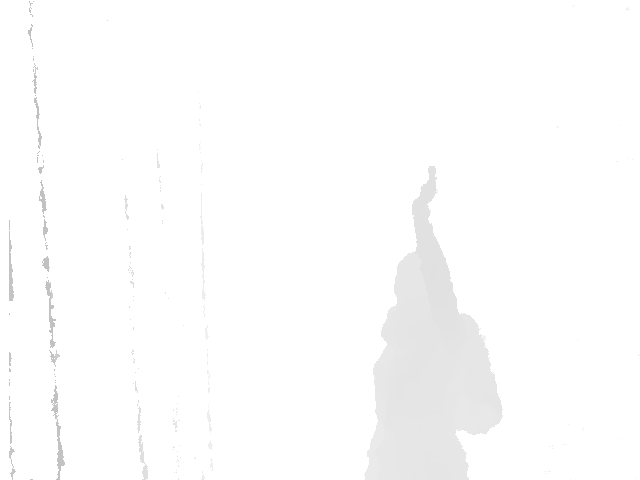hand: (408, 164, 440, 218)
head: (389, 248, 432, 309)
person: (370, 164, 503, 479)
